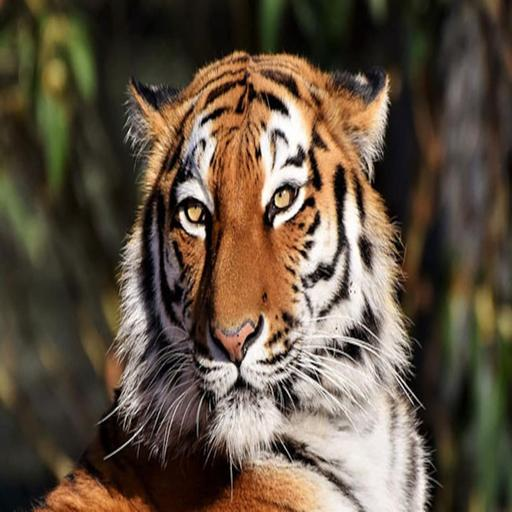Tiger: (14, 44, 434, 512)
